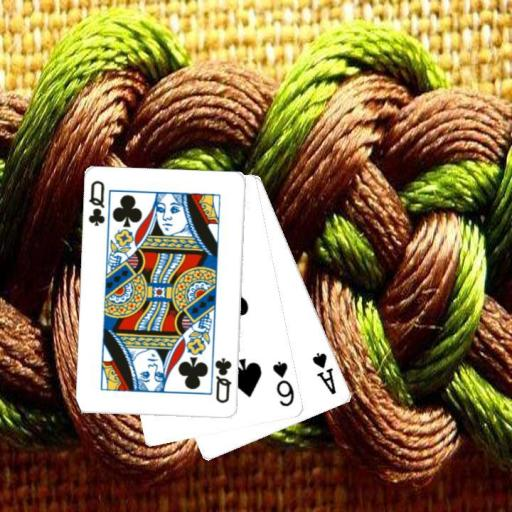6S: (270, 358, 297, 408)
AS: (309, 349, 338, 396)
QC: (212, 355, 234, 405), (85, 178, 107, 228)
